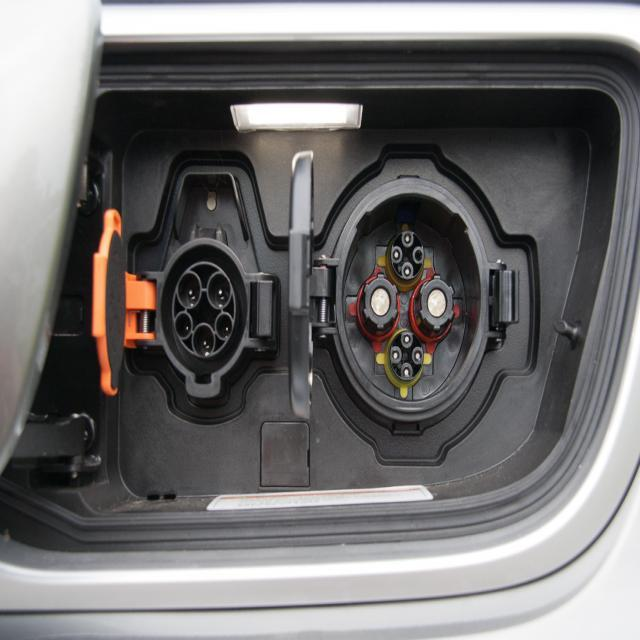CHAdeMO: (329, 205, 509, 412)
